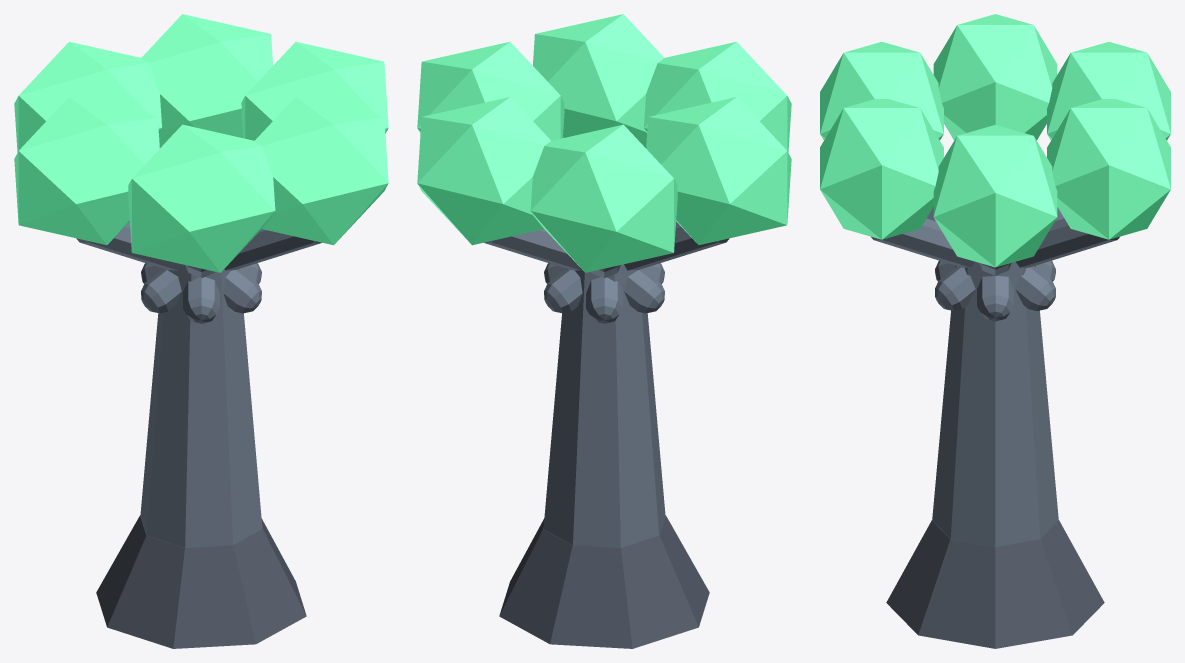
File: AXM-MACHINE-TREE-001_LOD2.glb
3 renders of one model, left to right at view 1: azimuth 30°, elevation 25°; view 2: azimuth 150°, elevation 25°; view 3: azimuth 270°, elevation 25°, orthographic.
Parts seen in each view (by area): view 1: trunk, root, crown__r04, crown__r03, crown__r05, crown__r01, crown__r00, crown__r02, branch__r05, branch__r01, branch__r03, branch__r00 (+1 smaller); view 2: trunk, root, crown__r02, crown__r03, crown__r01, crown__r05, crown__r00, crown__r04, branch__r01, branch__r05, branch__r03, branch__r00 (+1 smaller); view 3: trunk, root, crown__r00, crown__r01, crown__r05, crown__r03, crown__r02, crown__r04, branch__r01, branch__r05, branch__r03, branch__r02 (+1 smaller).
Part boxes in pixels (x1,y1,x2,y2): trunk: (140, 264, 262, 547); root: (96, 515, 306, 648); crown__r04: (128, 124, 275, 272); crown__r03: (14, 97, 159, 244); crown__r05: (255, 97, 388, 245); crown__r01: (141, 14, 272, 147); crown__r00: (241, 41, 388, 140); crown__r02: (14, 41, 161, 152); branch__r05: (141, 229, 321, 283); branch__r01: (183, 277, 219, 323); branch__r03: (76, 221, 261, 283); branch__r00: (141, 268, 181, 313); trunk: (543, 264, 665, 547); root: (499, 515, 709, 648); crown__r02: (530, 124, 677, 272); crown__r03: (646, 97, 791, 244); crown__r01: (417, 97, 550, 245); crown__r05: (533, 14, 664, 147); crown__r00: (417, 41, 564, 140); crown__r04: (644, 41, 791, 152); branch__r01: (484, 229, 664, 283); branch__r05: (586, 277, 622, 323); branch__r03: (544, 221, 729, 283); branch__r00: (624, 268, 664, 313); trunk: (932, 262, 1058, 546); root: (886, 520, 1104, 648); crown__r00: (933, 125, 1057, 267); crown__r01: (1047, 99, 1170, 239); crown__r05: (820, 99, 943, 239); crown__r03: (933, 14, 1057, 140); crown__r02: (1047, 42, 1170, 140); crown__r04: (820, 42, 943, 140); branch__r01: (935, 218, 1119, 281); branch__r05: (871, 218, 1055, 281); branch__r03: (977, 276, 1013, 321); branch__r02: (935, 207, 1063, 310).
Size of the model in its own units: 2.32 by 3.17 by 1.93.
